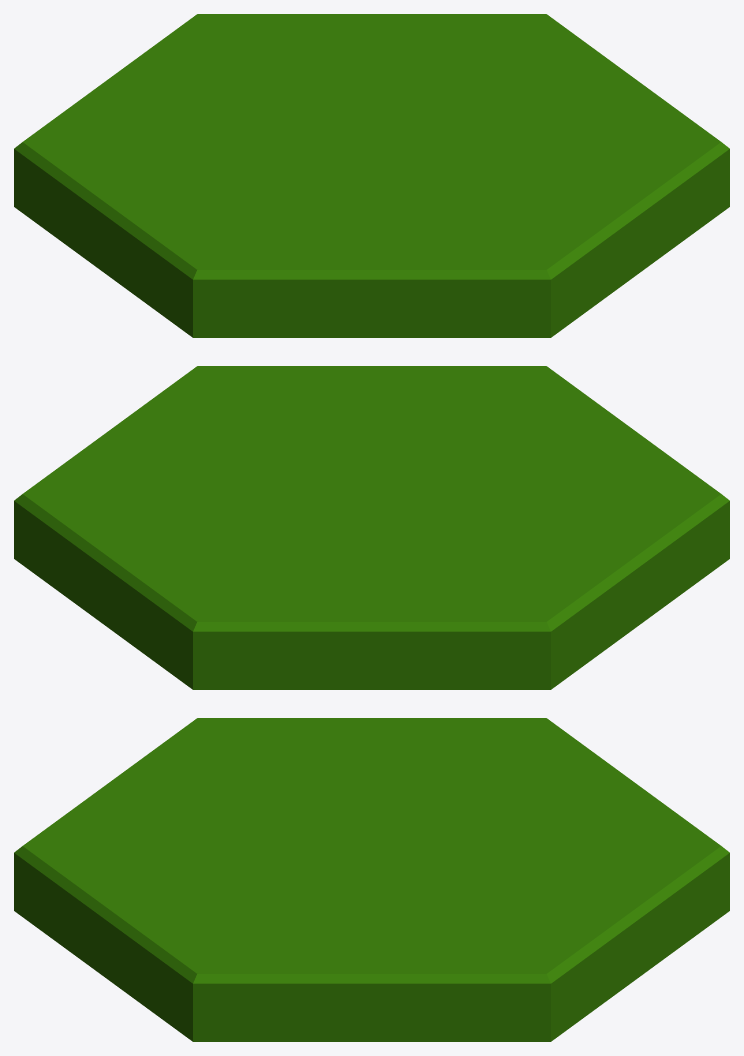
File: plain_grass_formation_Hex_tile.fbx
3 renders of one model, top to bottom at view 1: azimuth 30°, elevation 25°; view 2: azimuth 150°, elevation 25°; view 3: azimuth 270°, elevation 25°, orthographic.
Visible parts, largest first — view 1: Cylinder; view 2: Cylinder; view 3: Cylinder.
Boxes of the visible parts, <box> form: Cylinder: <box>14,14,729,337</box>; Cylinder: <box>14,366,729,689</box>; Cylinder: <box>14,718,729,1041</box>.
Size of the model in its own units: 1.73 by 0.2 by 2.
